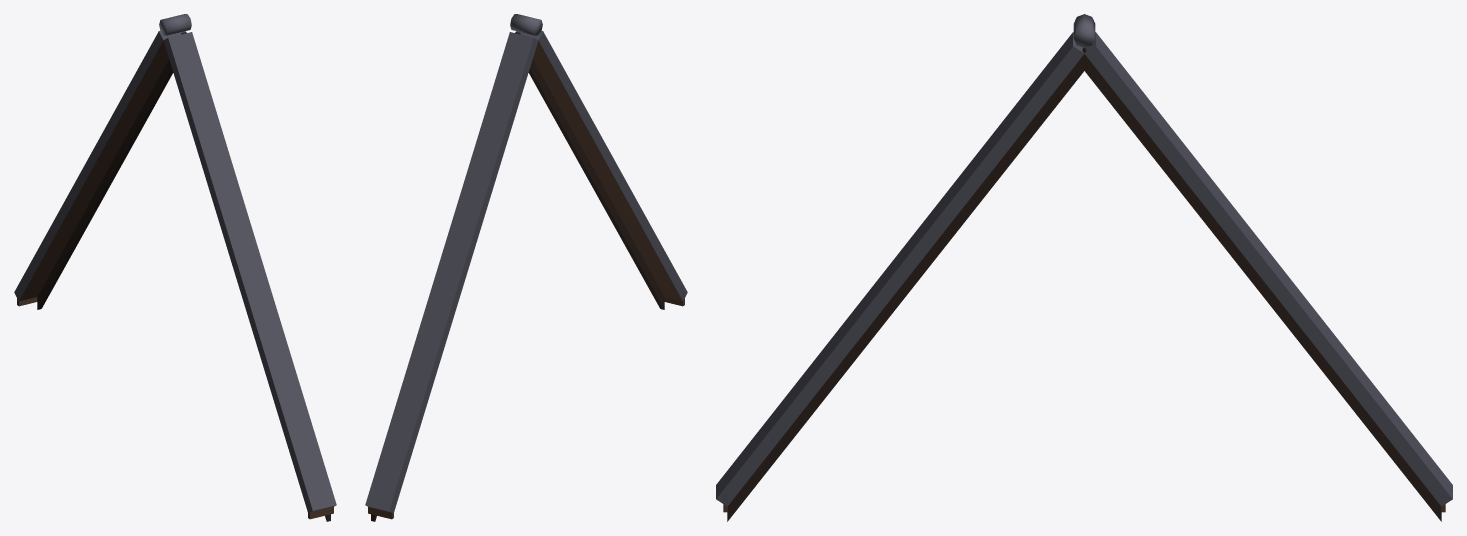
Rendered from kit_church_slate_w4_end.glb.
3 renders of one model, left to right at view 1: azimuth 30°, elevation 25°; view 2: azimuth 150°, elevation 25°; view 3: azimuth 270°, elevation 25°, orthographic. The views are drawn at different scales.
Visible parts, largest first — view 1: kit_church_slate_w4_end; view 2: kit_church_slate_w4_end; view 3: kit_church_slate_w4_end.
Boxes of the visible parts, x1=… form: kit_church_slate_w4_end: x1=14, y1=14, x2=336, y2=521; kit_church_slate_w4_end: x1=365, y1=14, x2=687, y2=521; kit_church_slate_w4_end: x1=716, y1=14, x2=1452, y2=521.
Bounding box in the file's own units: 0.22 × 3.51 × 4.75.
